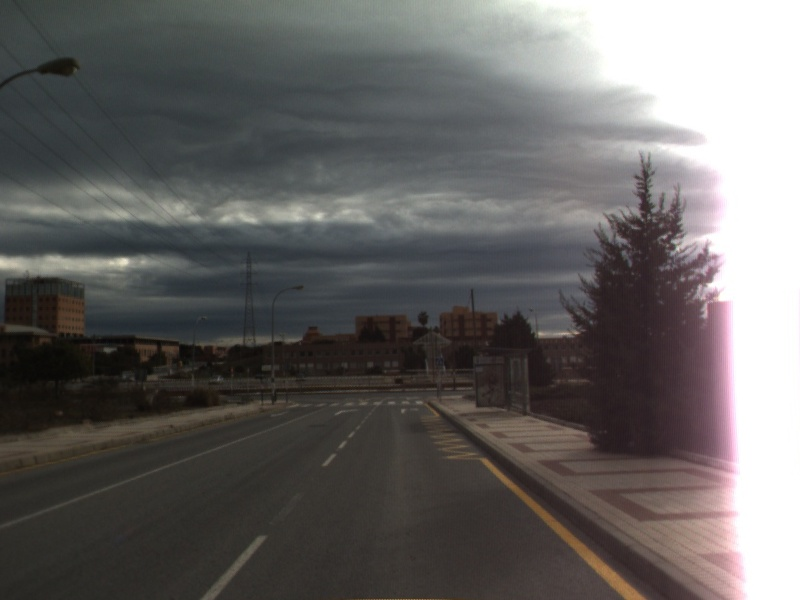RIGHT: (332, 406, 363, 418), (398, 405, 422, 416)
